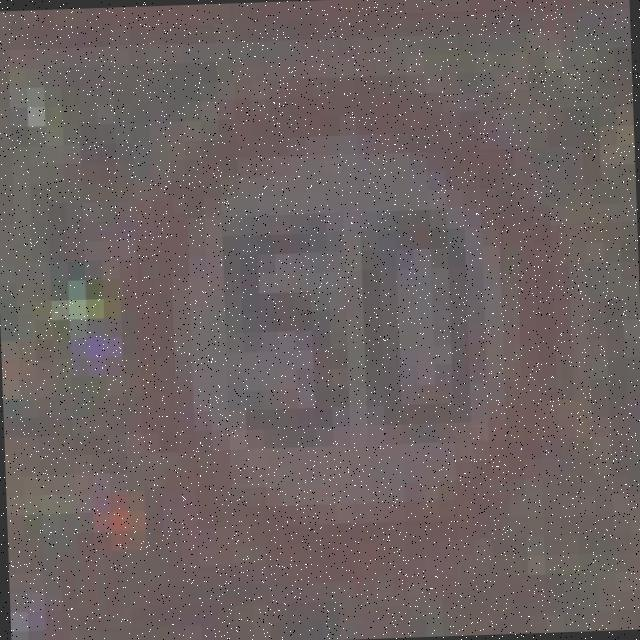Ograniczenie predkosci do 50: (124, 80, 571, 568)
